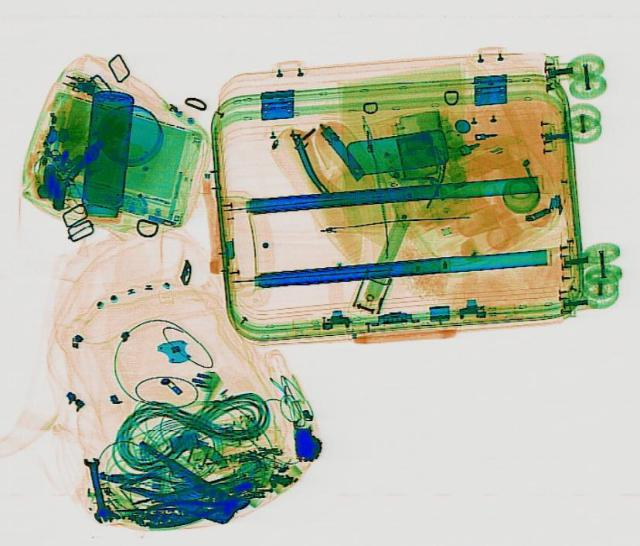Pliers: (104, 436, 250, 536), (140, 488, 250, 527)
Wrench: (81, 456, 112, 519)
